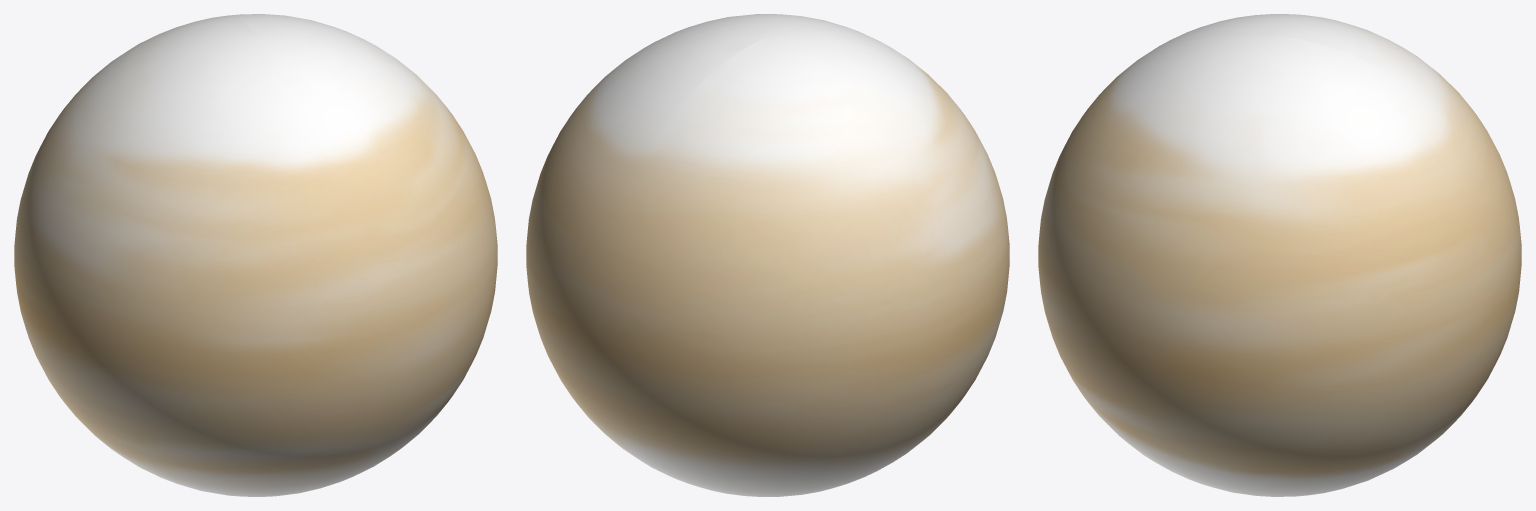
Rendered from Venus_1_12103.glb.
3 renders of one model, left to right at view 1: azimuth 30°, elevation 25°; view 2: azimuth 150°, elevation 25°; view 3: azimuth 270°, elevation 25°, orthographic.
Parts seen in each view (by area): view 1: cylindrically_mapped_sphere:Mesh; view 2: cylindrically_mapped_sphere:Mesh; view 3: cylindrically_mapped_sphere:Mesh.
Boxes of the visible parts, x1,y1,x2,y2 form: cylindrically_mapped_sphere:Mesh: (14,14,497,496); cylindrically_mapped_sphere:Mesh: (526,14,1009,496); cylindrically_mapped_sphere:Mesh: (1038,14,1521,496).
Size of the model in its own units: 1000 by 1000 by 1000.
Materials: 1 (1 with a texture image).
